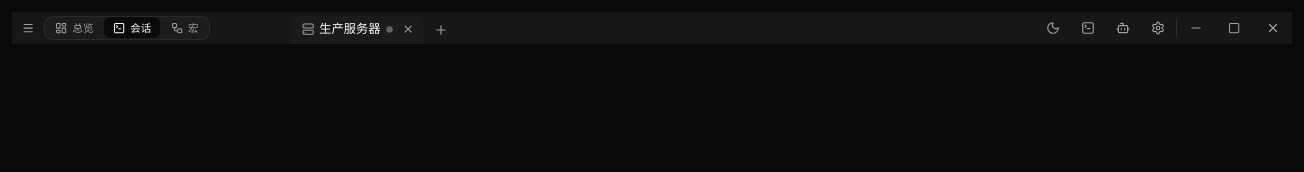
it: WindowTitleBar › opens overview and hides session and macro navigation
Click the button "总览". click: (74, 28)
box: [46,17,102,38]
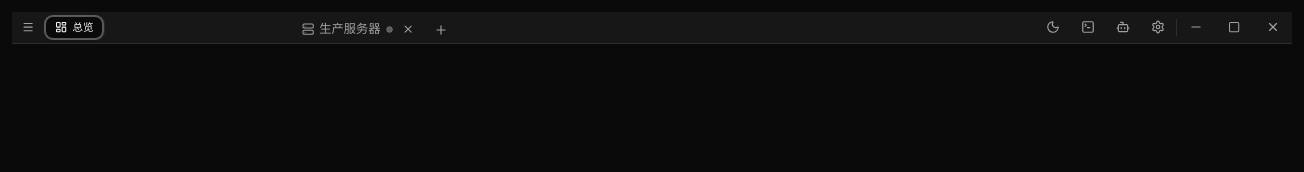
Check: the tab "生产服务器" is shown, box [298,16,396,42]
Check: the button "会话" is gone
Check: the button "宏" is gone
